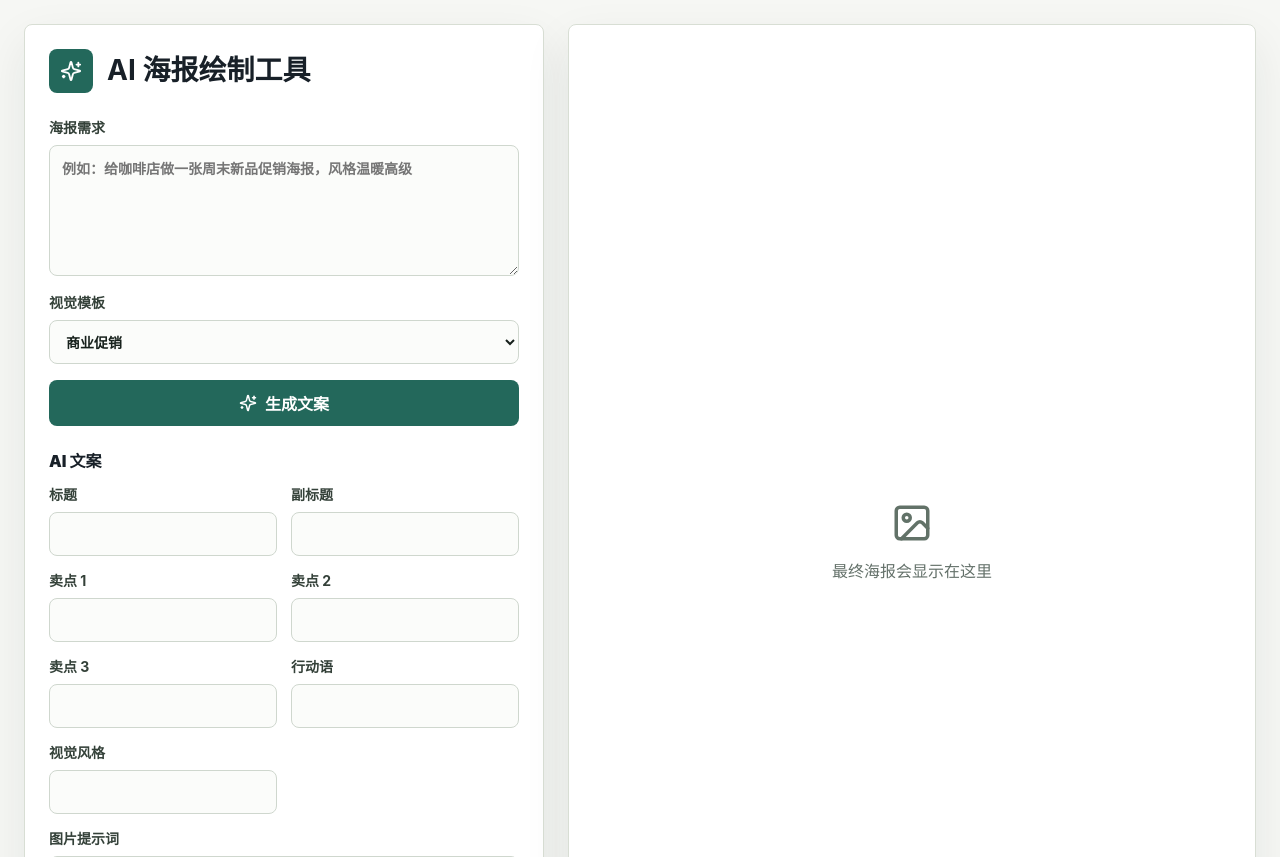
Scenario: PosterTool › generates editable copy from a user requirement
In the text box labelled "海报需求": (284, 210) [49,145,519,276], type "咖啡店周末促销"
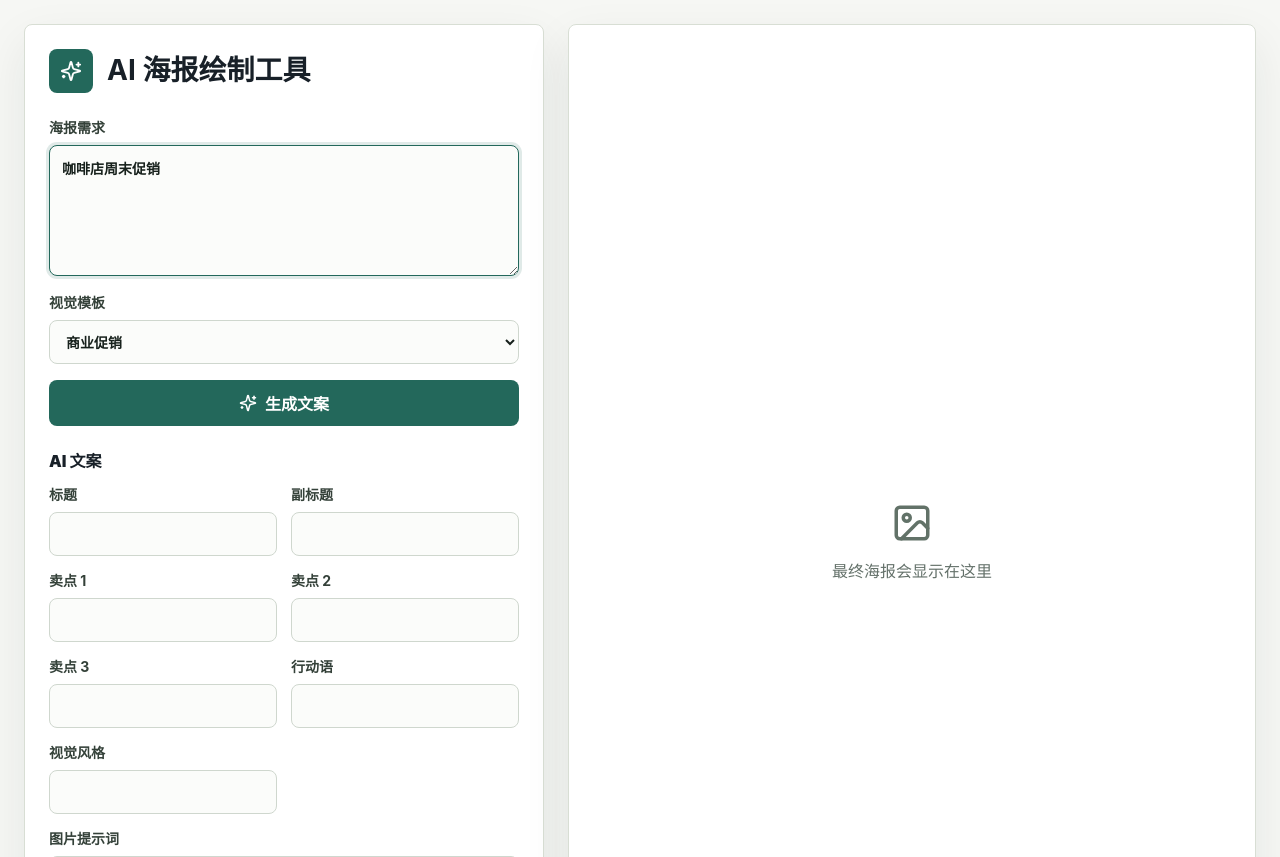
Select "活动邀请" in the dropdown labelled "视觉模板": (284, 342) [49,320,519,364]
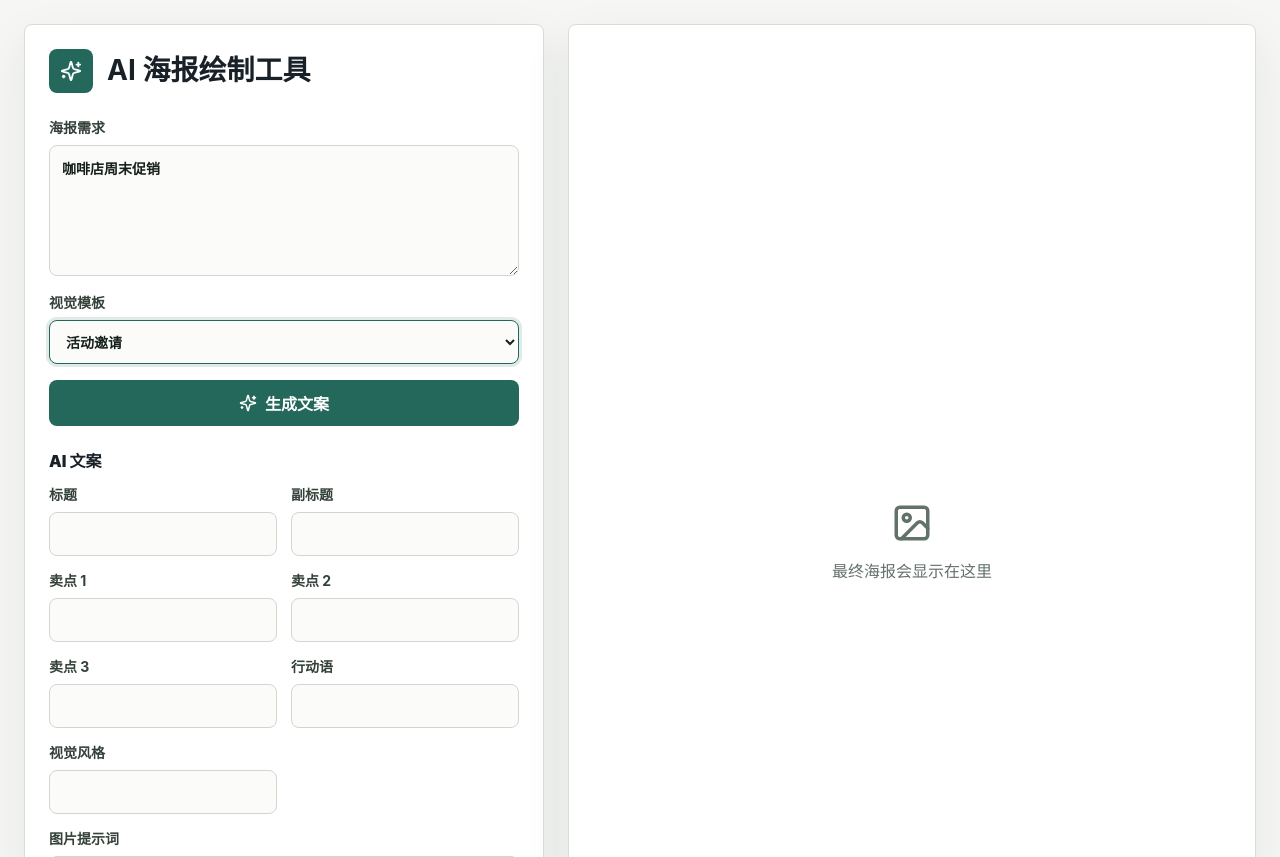
Click the button "生成文案": (284, 403) [49,380,519,426]
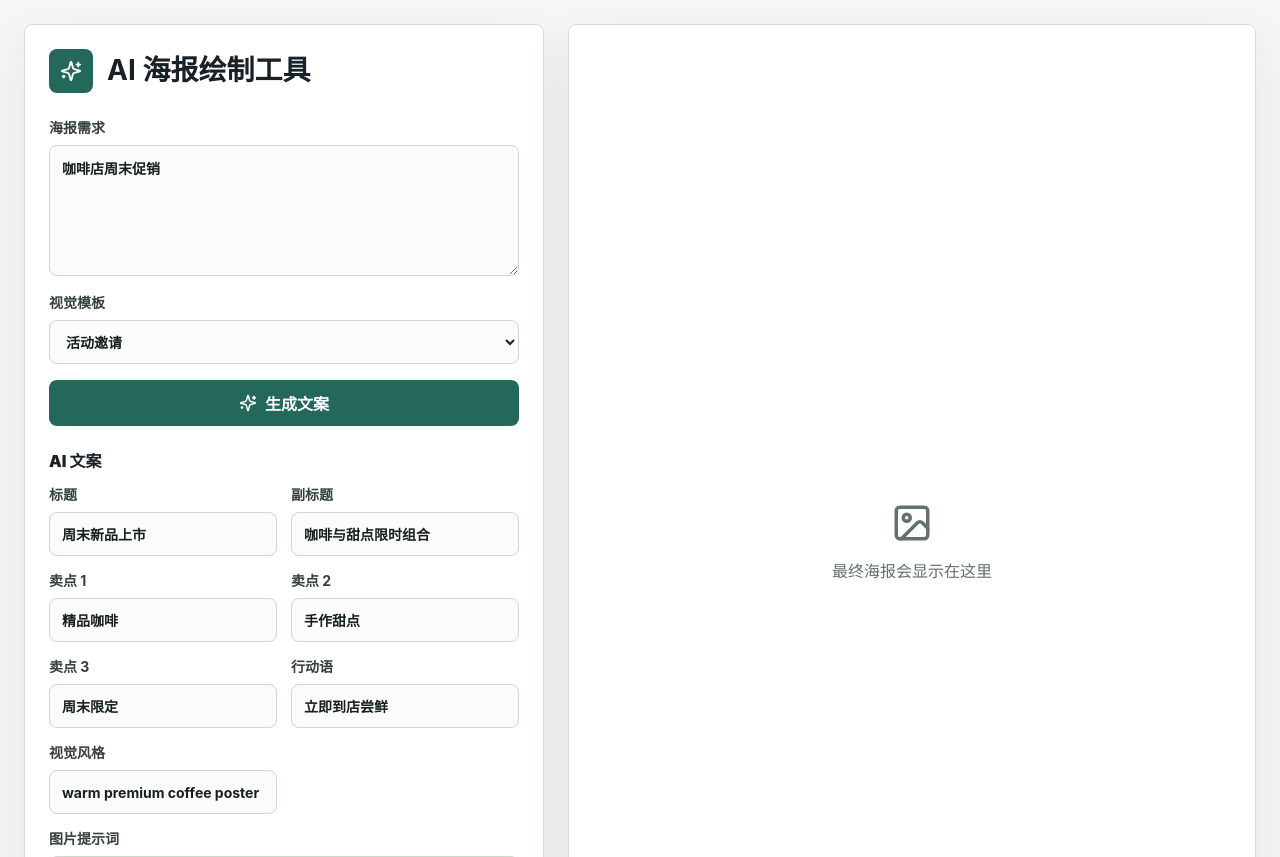
Check: the field showing "周末新品上市" is shown, box [49,512,277,556]
Check: the field showing "立即到店尝鲜" is shown, box [291,684,519,728]
